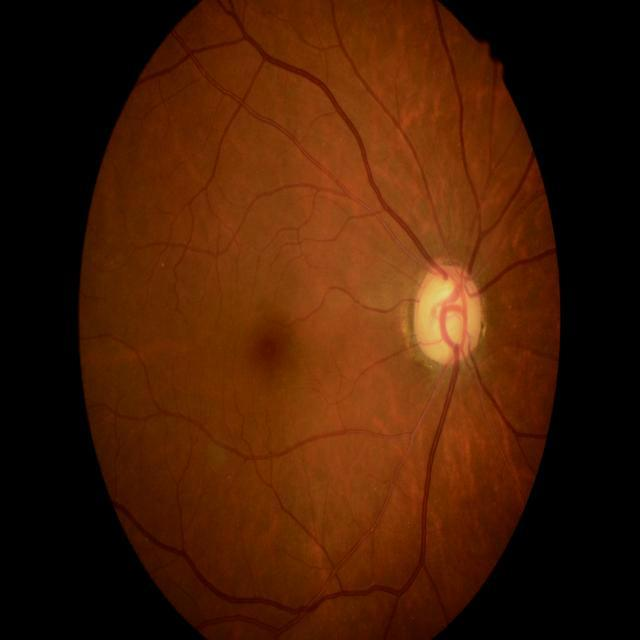cup: (421, 278, 468, 361)
disk: (413, 262, 487, 368)
